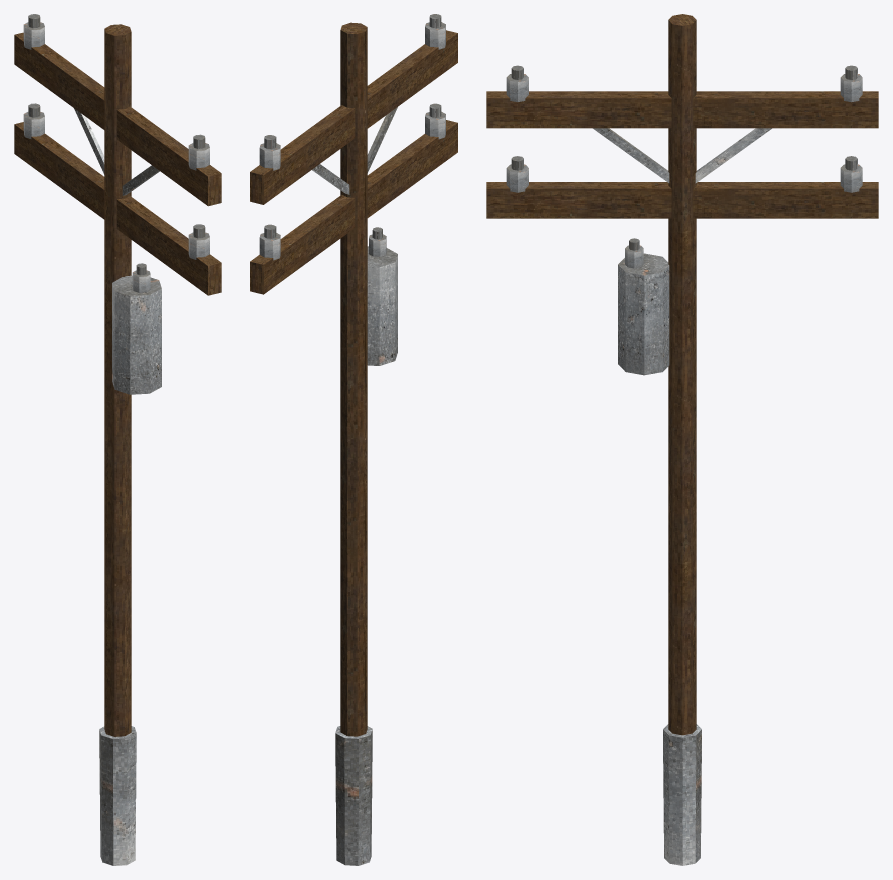
File: telephonepole.glb
The picture shows the model from 3 angles, left to right: view 1: azimuth 30°, elevation 25°; view 2: azimuth 150°, elevation 25°; view 3: azimuth 270°, elevation 25°; orthographic projection.
Visible parts, largest first — view 1: PoleMain, Cylinder; view 2: PoleMain, Cylinder; view 3: PoleMain, Cylinder.
Boxes of the visible parts, <box> form: PoleMain: <box>14,24,221,865</box>; Cylinder: <box>23,14,209,394</box>; PoleMain: <box>250,22,457,865</box>; Cylinder: <box>259,14,445,365</box>; PoleMain: <box>486,14,878,865</box>; Cylinder: <box>506,65,862,375</box>.
Bounding box in the file's own units: 0.9101 × 16.12 × 6.84.
Materials: 2 (2 with a texture image).
